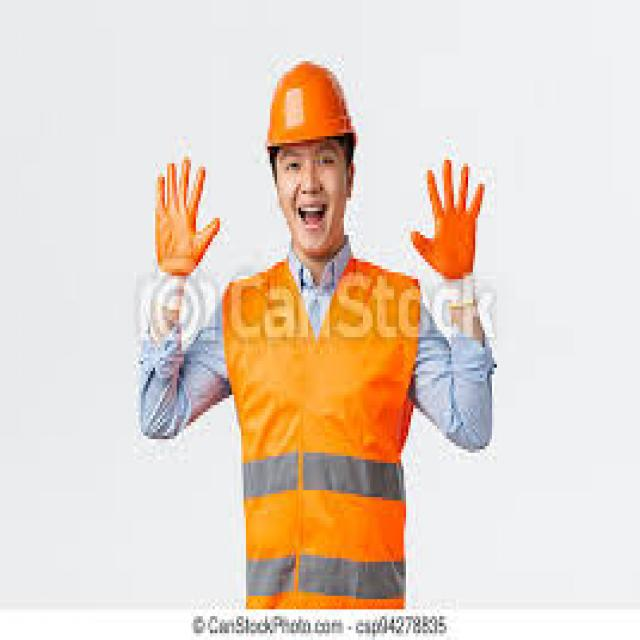Reflective-Jacket: (218, 252, 428, 609)
Safety-Helmet: (263, 55, 363, 153)
